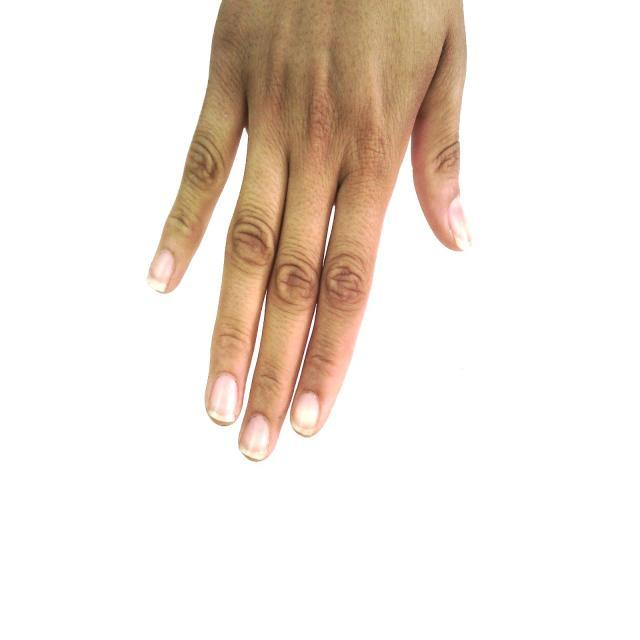Fingernail: (209, 375, 239, 422), (240, 415, 270, 459), (292, 393, 319, 435), (450, 200, 470, 250), (149, 251, 173, 291)
